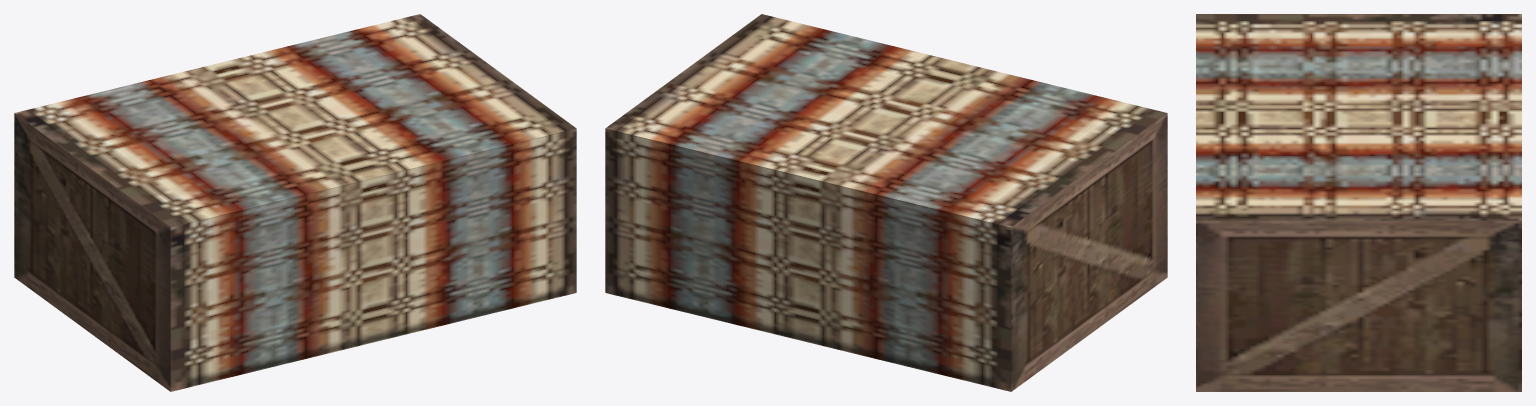
Rendered from Market_Counter02.glb.
3 renders of one model, left to right at view 1: azimuth 30°, elevation 25°; view 2: azimuth 150°, elevation 25°; view 3: azimuth 270°, elevation 25°, orthographic. The views are drawn at different scales.
Parts seen in each view (by area): view 1: MARKET_COUNTER02; view 2: MARKET_COUNTER02; view 3: MARKET_COUNTER02.
Boxes of the visible parts, left/top/right/bottom form: MARKET_COUNTER02: left=14, top=14, right=576, bottom=391; MARKET_COUNTER02: left=605, top=14, right=1167, bottom=391; MARKET_COUNTER02: left=1196, top=14, right=1521, bottom=391.
Bounding box in the file's own units: 1.92 × 0.742 × 1.28.
1 material, 1 textured.
